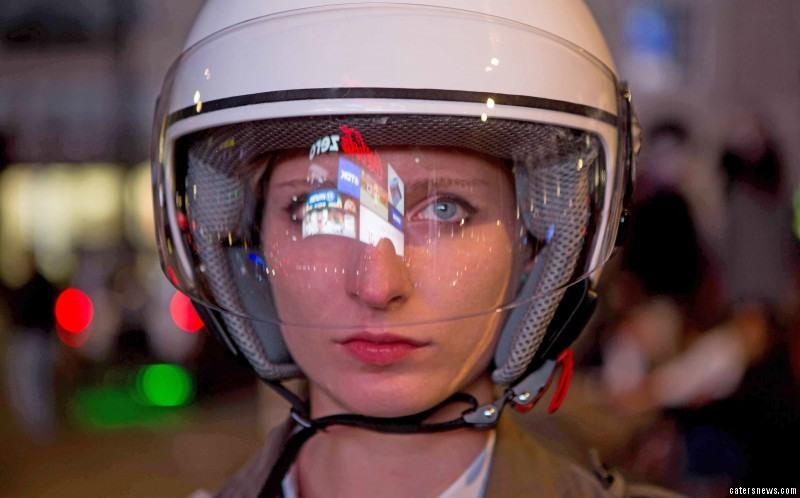helmet: (160, 9, 625, 393)
